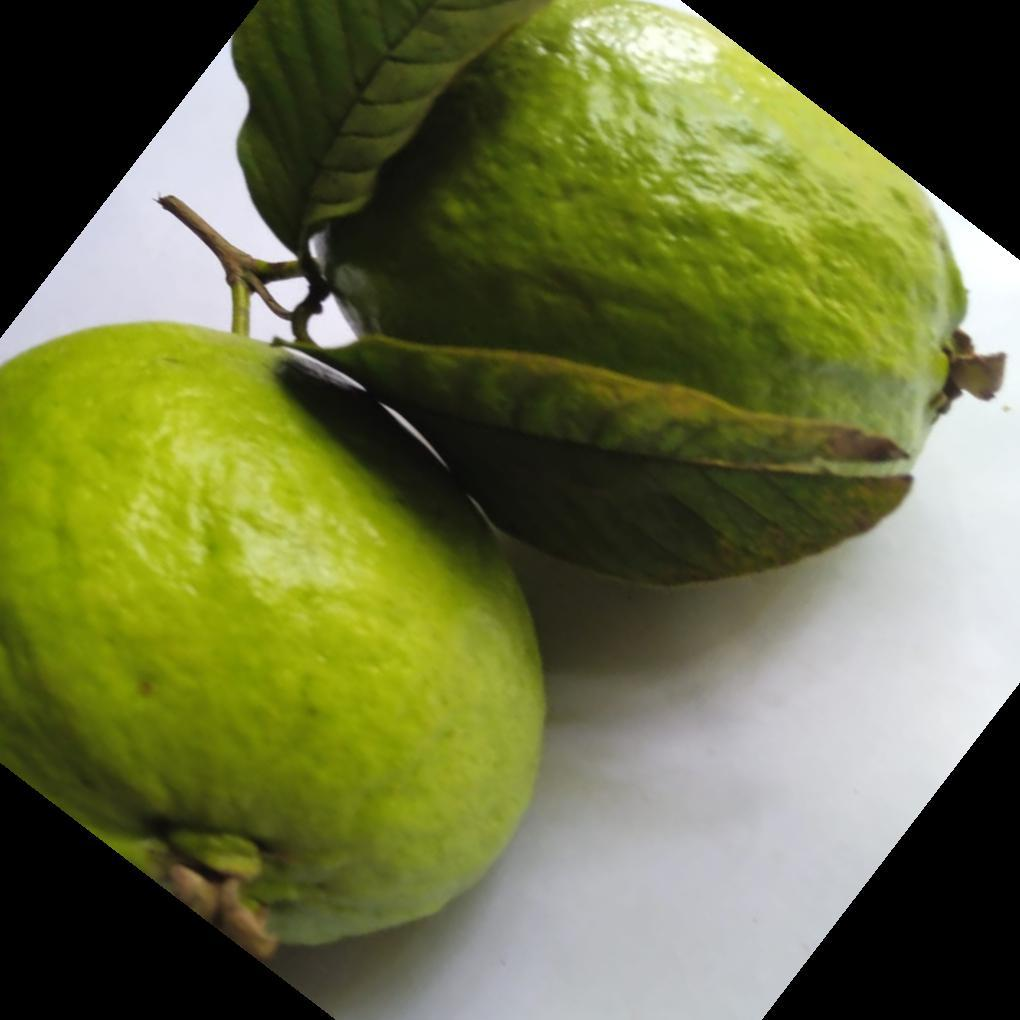FreshGuava: (0, 0, 1004, 960)
